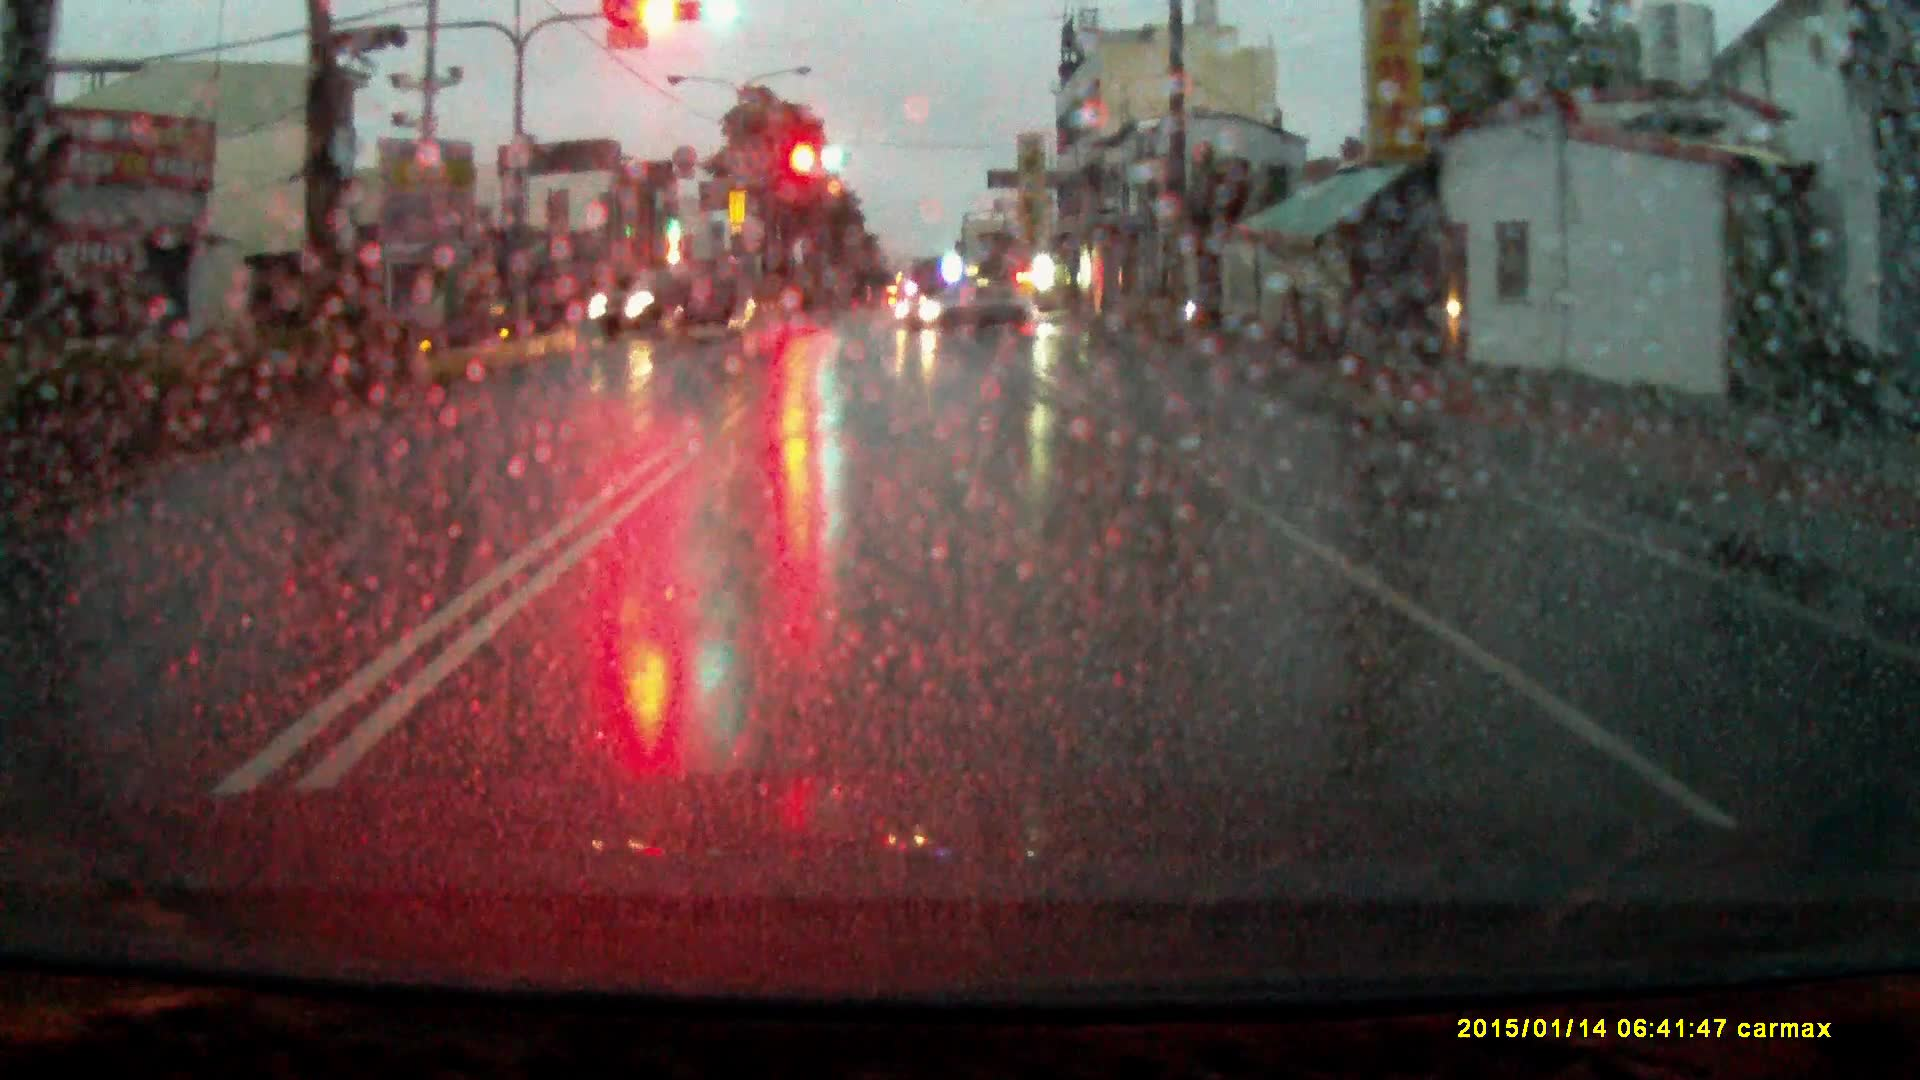vehicle: (589, 274, 760, 357), (893, 290, 1040, 343)
